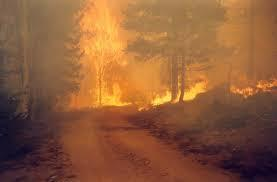fire: (72, 5, 138, 115), (222, 72, 274, 104), (147, 85, 201, 105)
